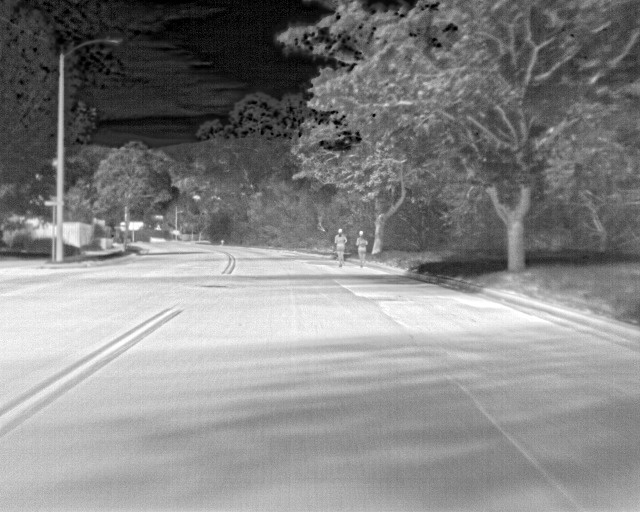people: (329, 226, 349, 269), (356, 227, 367, 273)
